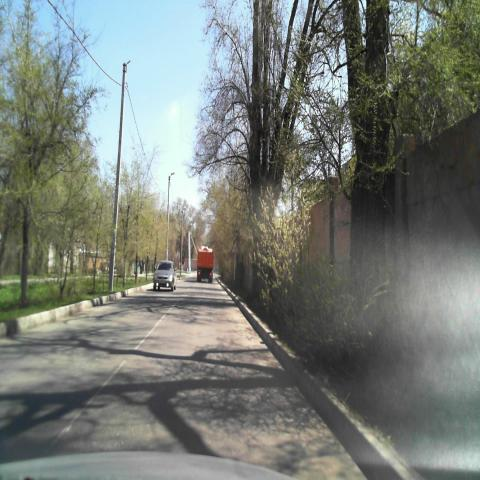1_11: (231, 241, 240, 255)
